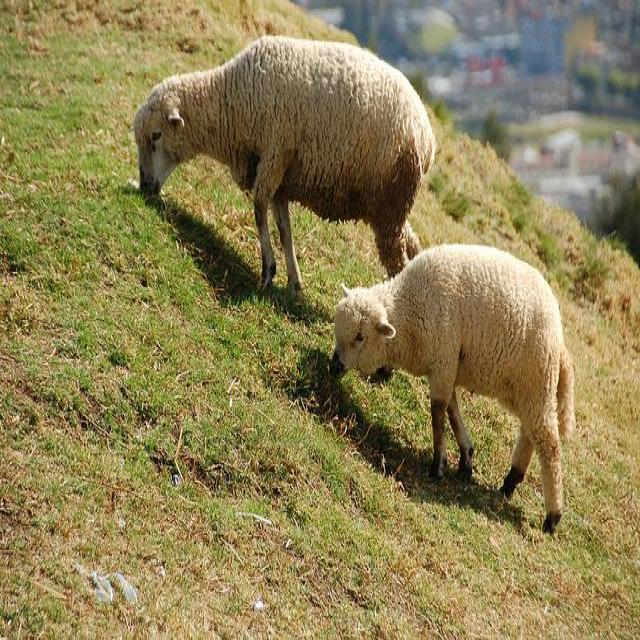Sheep: (140, 39, 431, 305), (333, 244, 576, 534)
